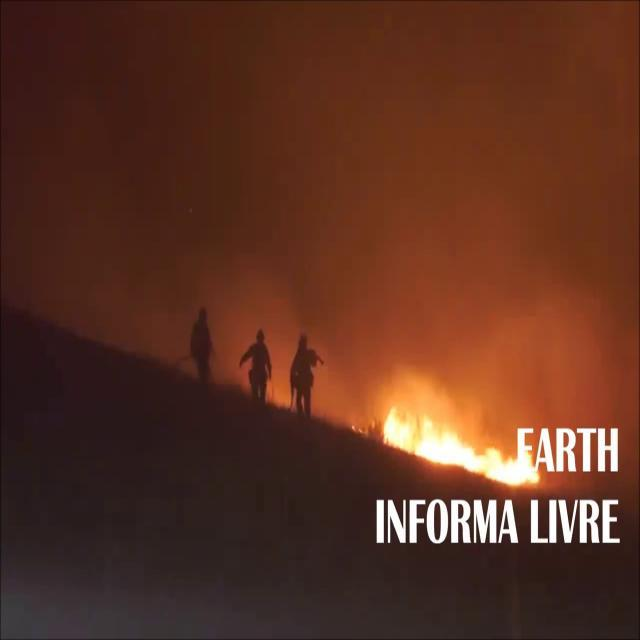Fire: (386, 398, 504, 487), (381, 384, 413, 455), (349, 421, 356, 448)
Smoke: (5, 8, 640, 320)
